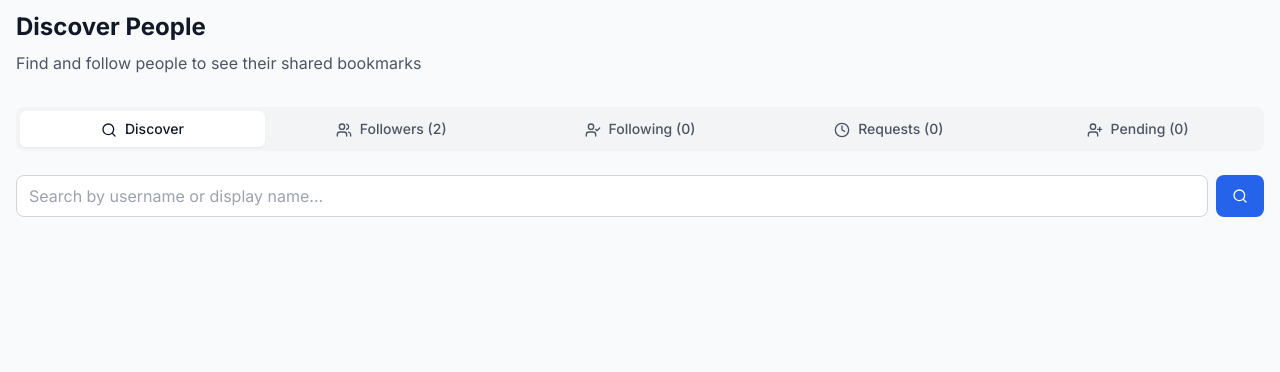
Discover Page › Followers Tab › should display followers list
Click the button "Followers (2)": {"x": 391, "y": 129} [269,111,514,147]
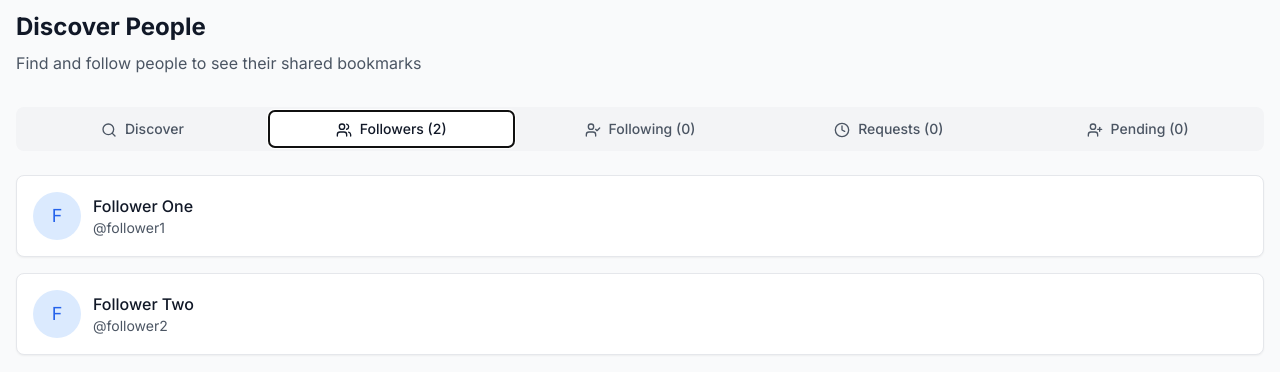
Now the heading "Follower One" is shown, box [93,196,193,216]
Now the text "@follower1" is shown, box [93,219,165,236]
Now the heading "Follower Two" is shown, box [93,294,194,314]
